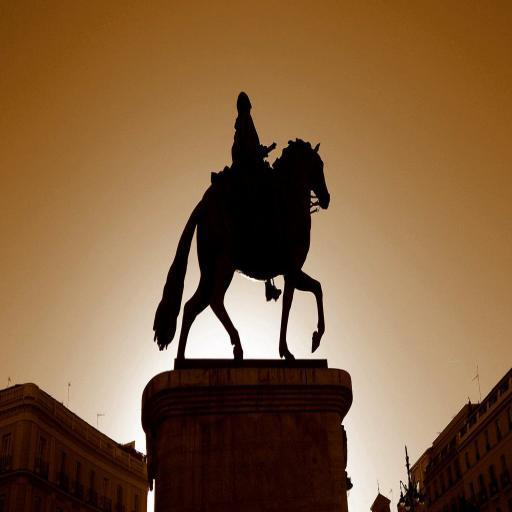horse: (152, 137, 330, 359)
